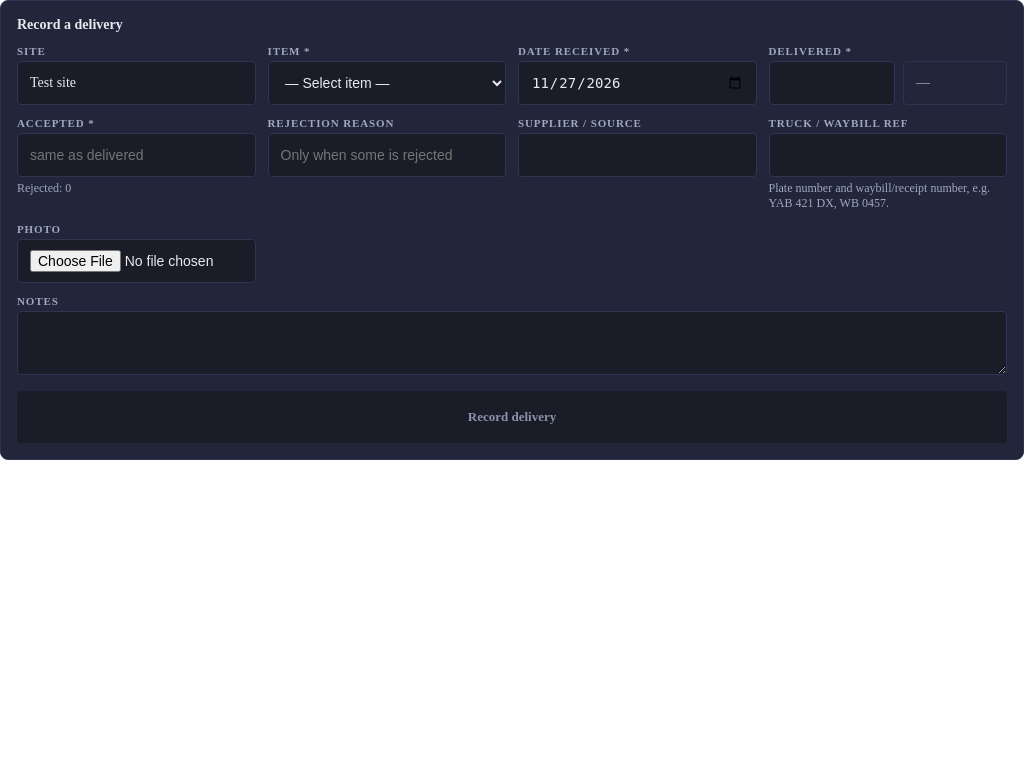
only shows fuel requests for diesel, explains paid closure, and refreshes after saving the link
Select "APCL diesel (litres)" in the dropdown labelled "Item *" at (387, 83), box [268,61,506,105]
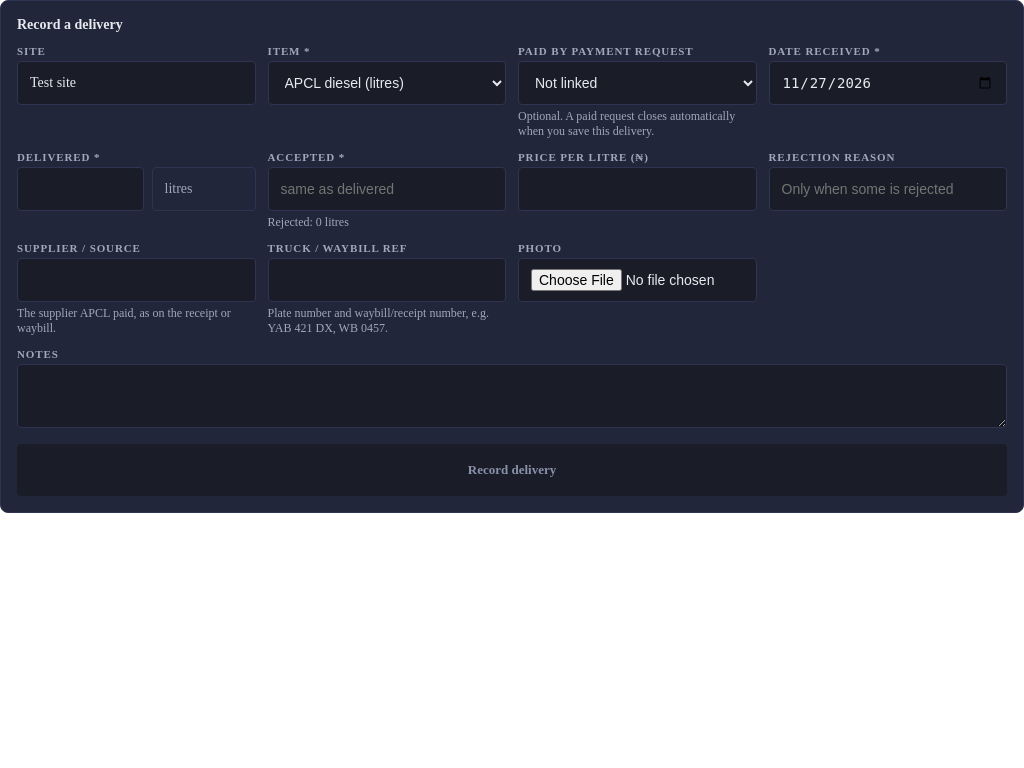
Select "PR-FUEL — ₦40,000 — Diesel for generator (Paid)" in the dropdown labelled "Paid by payment request" at (637, 83), box [518,61,756,105]
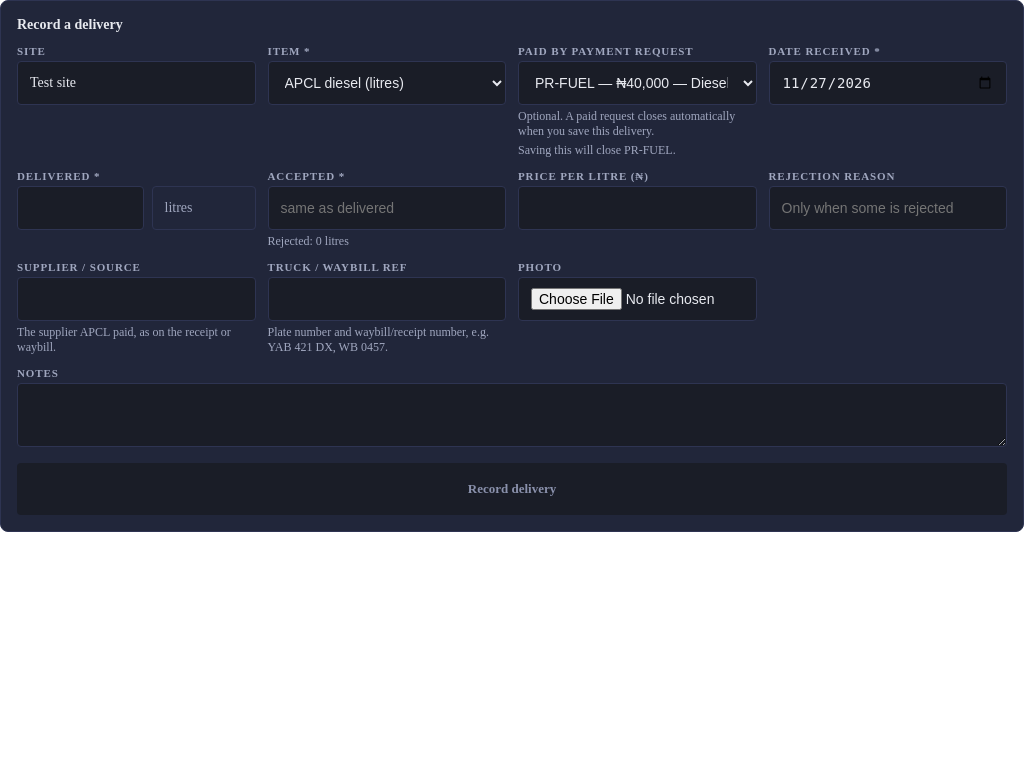
Check: the text "Saving this will close PR-FUEL." is shown, box [518,143,676,157]
Type "10" into the number field labelled "Delivered *" at (80, 208), box [17,186,144,230]
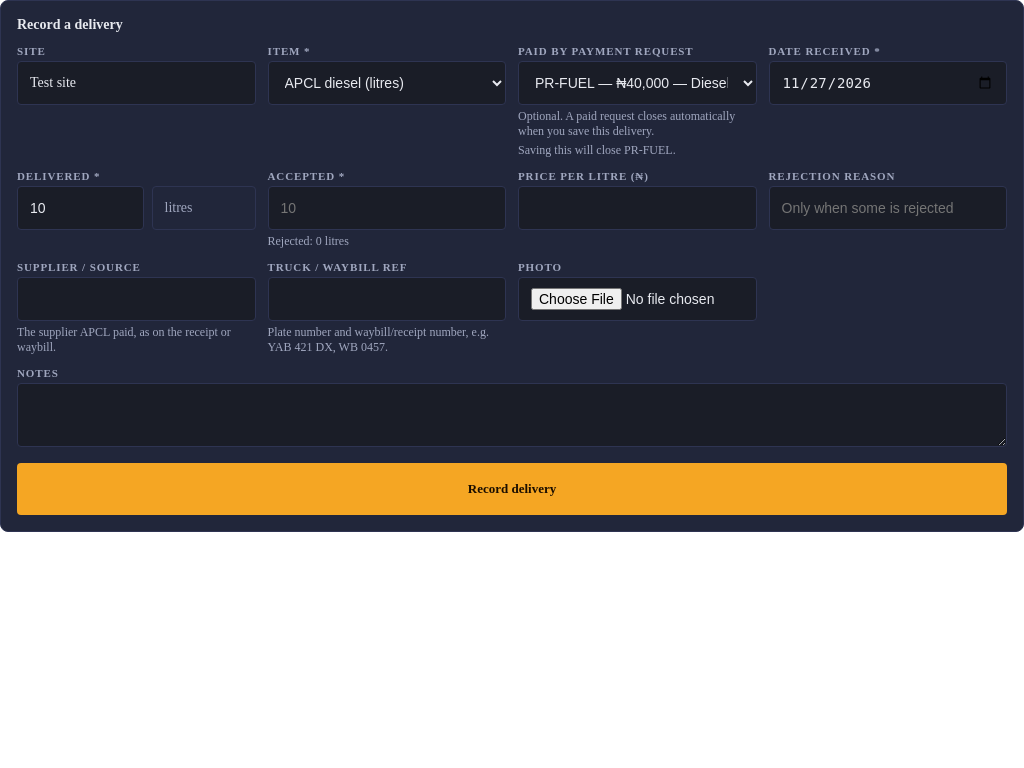
Click the button "Record delivery" at (512, 489), box [17,463,1007,515]
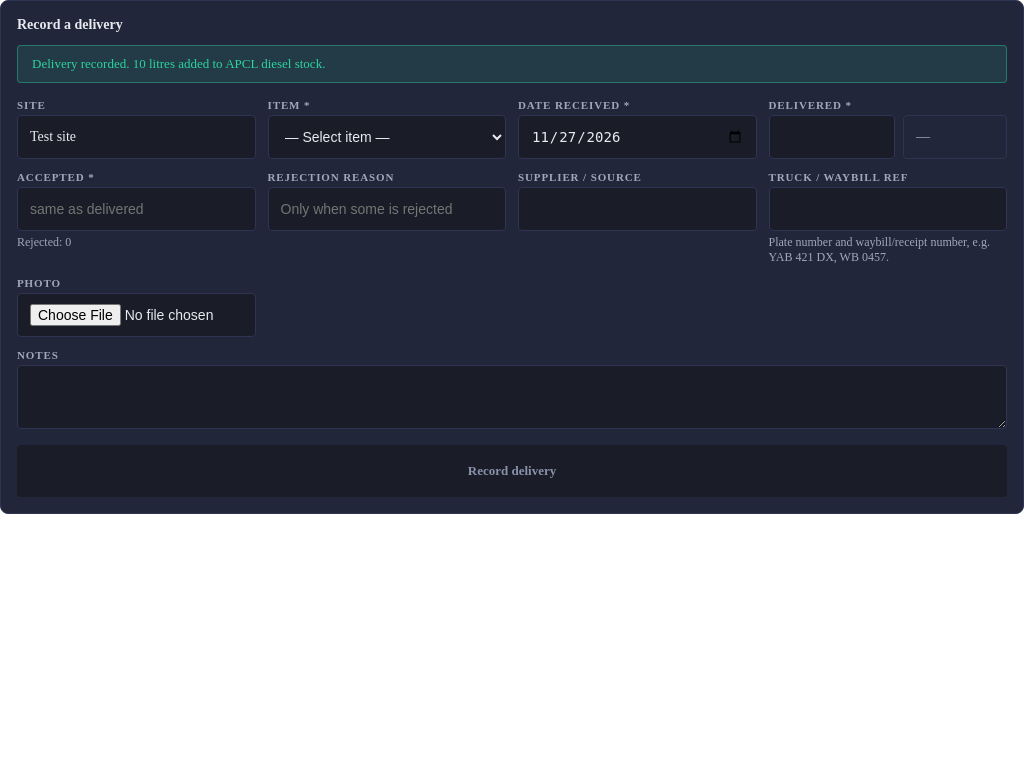
Check: the text "Delivery recorded. 10 litres added to APCL diesel stock." is shown, box [17,45,1007,83]
Select "APCL diesel (litres)" in the dropdown labelled "Item *" at (387, 137), box [268,115,506,159]
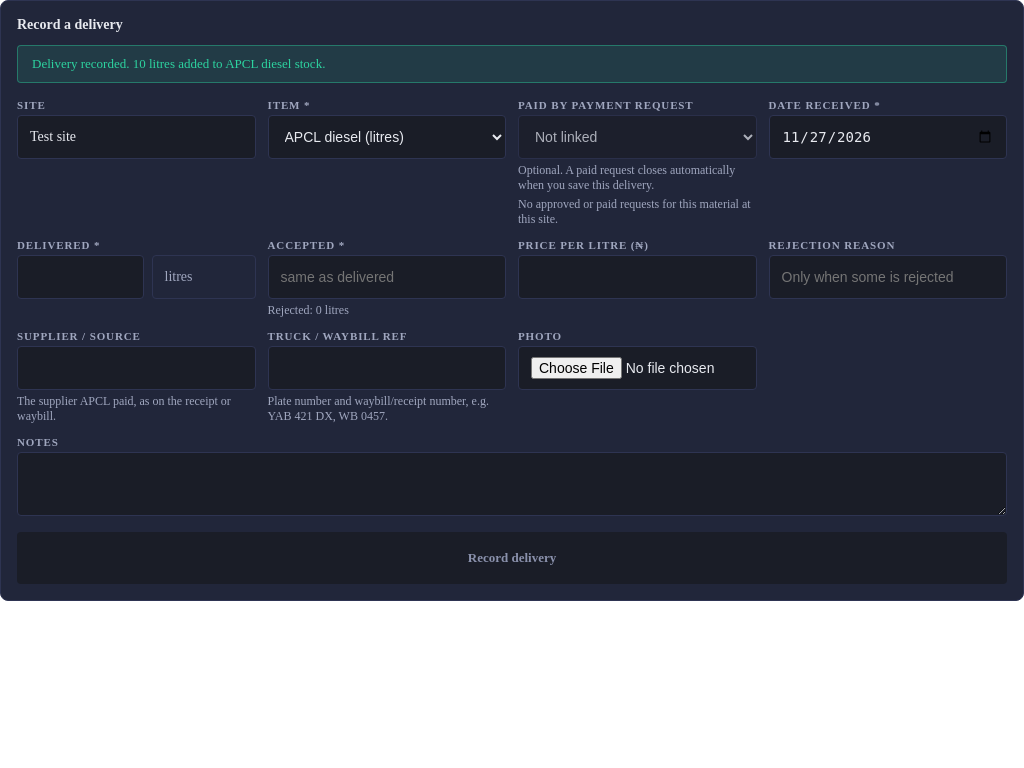
Check: the text "No approved or paid requests for this material at this site." is shown, box [518,197,756,227]
Check: the dropdown labelled "Paid by payment request" is disabled, box [518,115,756,159]
